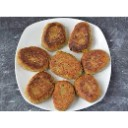cutlet: (51, 51, 82, 78), (27, 72, 53, 102), (82, 49, 112, 75), (17, 49, 49, 70), (70, 21, 90, 53), (54, 82, 75, 110), (76, 77, 101, 100), (41, 23, 64, 48)
